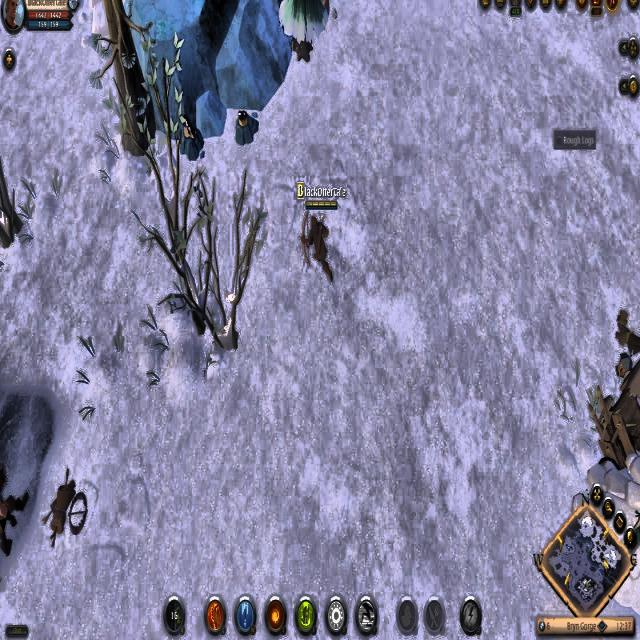copperore: (176, 112, 208, 164), (231, 108, 258, 148)
